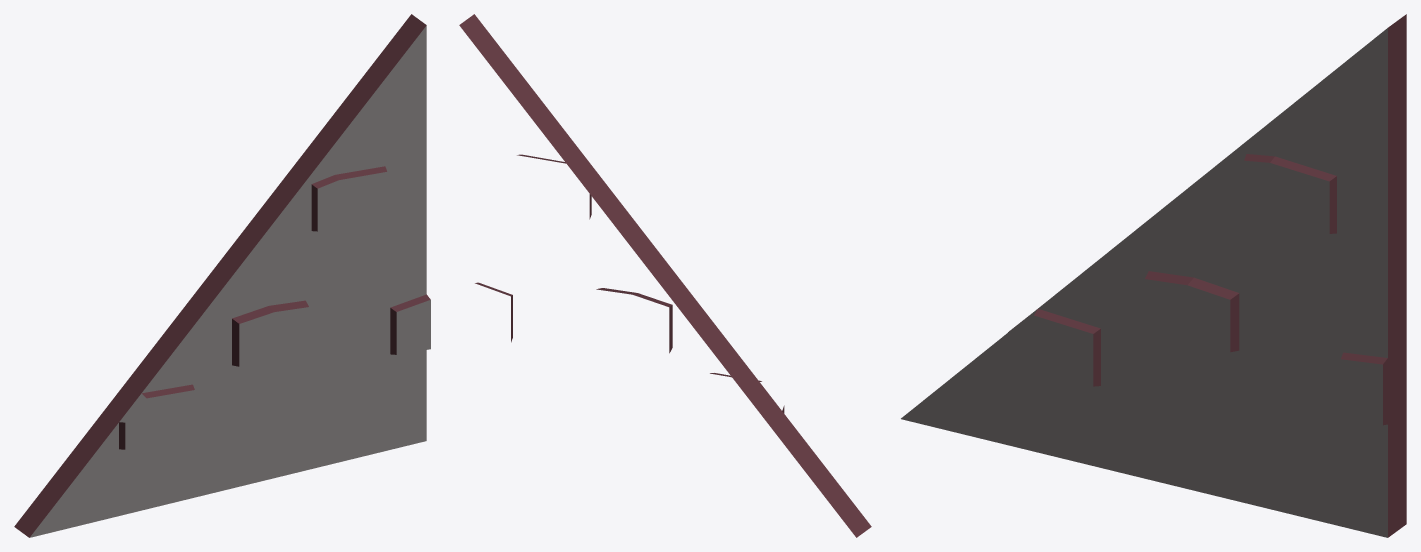
File: buildings-wall-stone-end-l-3x3m-c.glb
The picture shows the model from 3 angles, left to right: view 1: azimuth 30°, elevation 25°; view 2: azimuth 150°, elevation 25°; view 3: azimuth 330°, elevation 25°; orthographic projection. The views are drawn at different scales.
Parts seen in each view (by area): view 1: wall-stone-end-l-3x3m-c; view 2: wall-stone-end-l-3x3m-c; view 3: wall-stone-end-l-3x3m-c.
Part boxes in pixels (x1,y1,x2,y2): wall-stone-end-l-3x3m-c: (14, 14, 430, 537); wall-stone-end-l-3x3m-c: (459, 14, 871, 537); wall-stone-end-l-3x3m-c: (901, 14, 1406, 537).
Size of the model in its own units: 3 by 3 by 0.2712.
